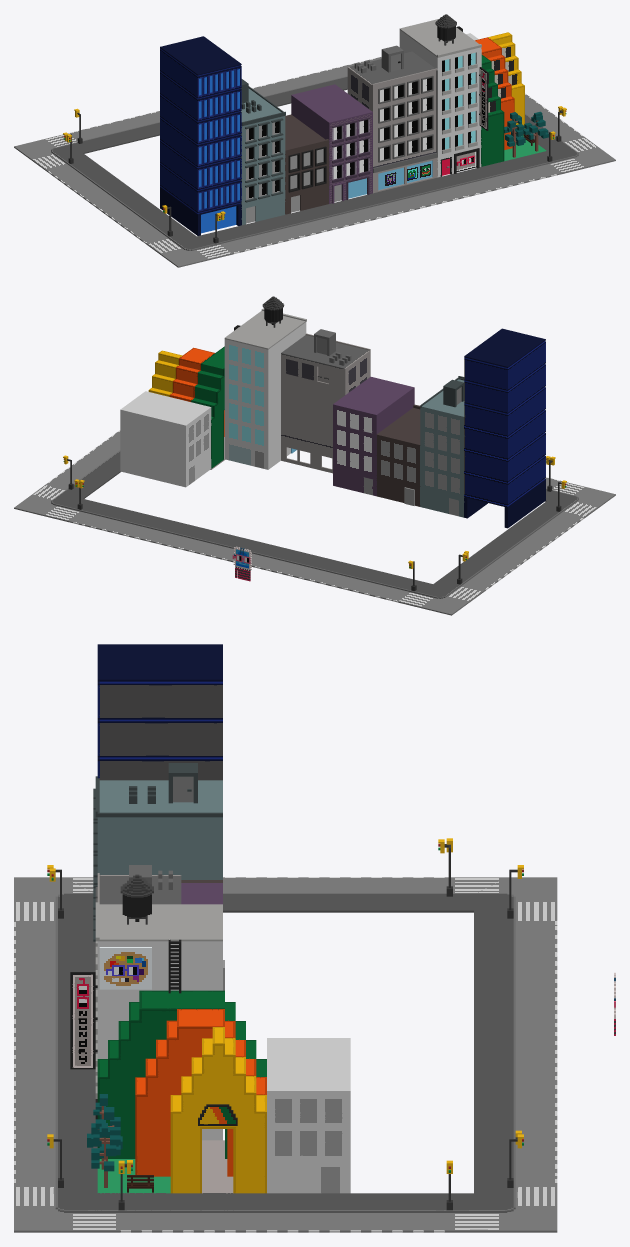
File: Block_Right.glb
3 views of the same model, one above another, from view 1: azimuth 30°, elevation 25°; view 2: azimuth 150°, elevation 25°; view 3: azimuth 270°, elevation 25° (orthographic). The views are drawn at different scales.
Visible parts, largest first — view 1: Block_Right; view 2: Block_Right; view 3: Block_Right.
Boxes of the visible parts, <box> form: Block_Right: <box>14,14,615,267</box>; Block_Right: <box>14,296,615,615</box>; Block_Right: <box>14,644,615,1232</box>.
Size of the model in its own units: 4 by 1.43 by 2.88.
Materials: 1 (1 with a texture image).
